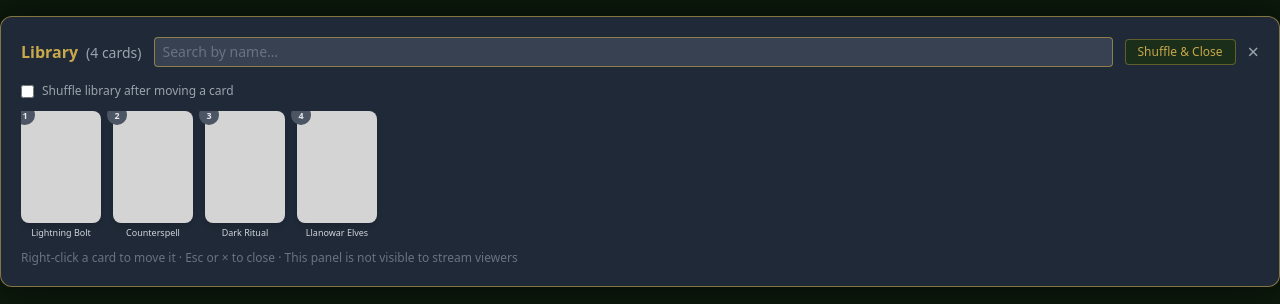
Test: LibraryBrowser › shows no-results message when search matches nothing
Type "zzz" into the field with test id "library-search".
click(633, 52); type("zzz")  # box [154,37,1112,67]
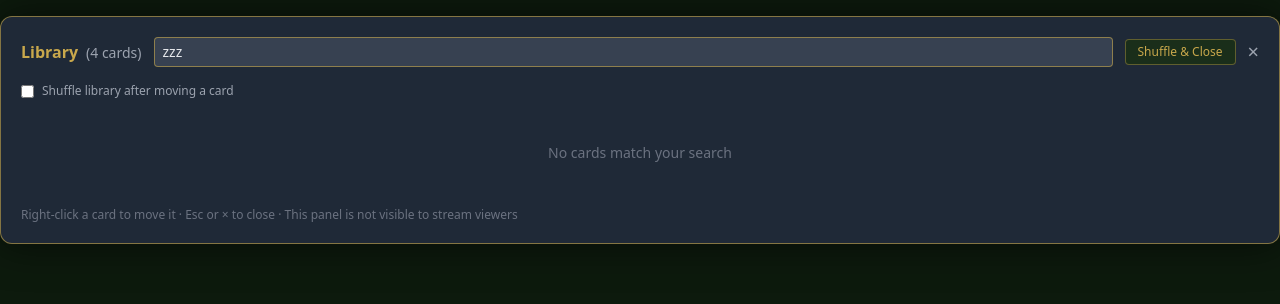
Expected: the text "No cards match your search" is shown, [548,143,732,162]
